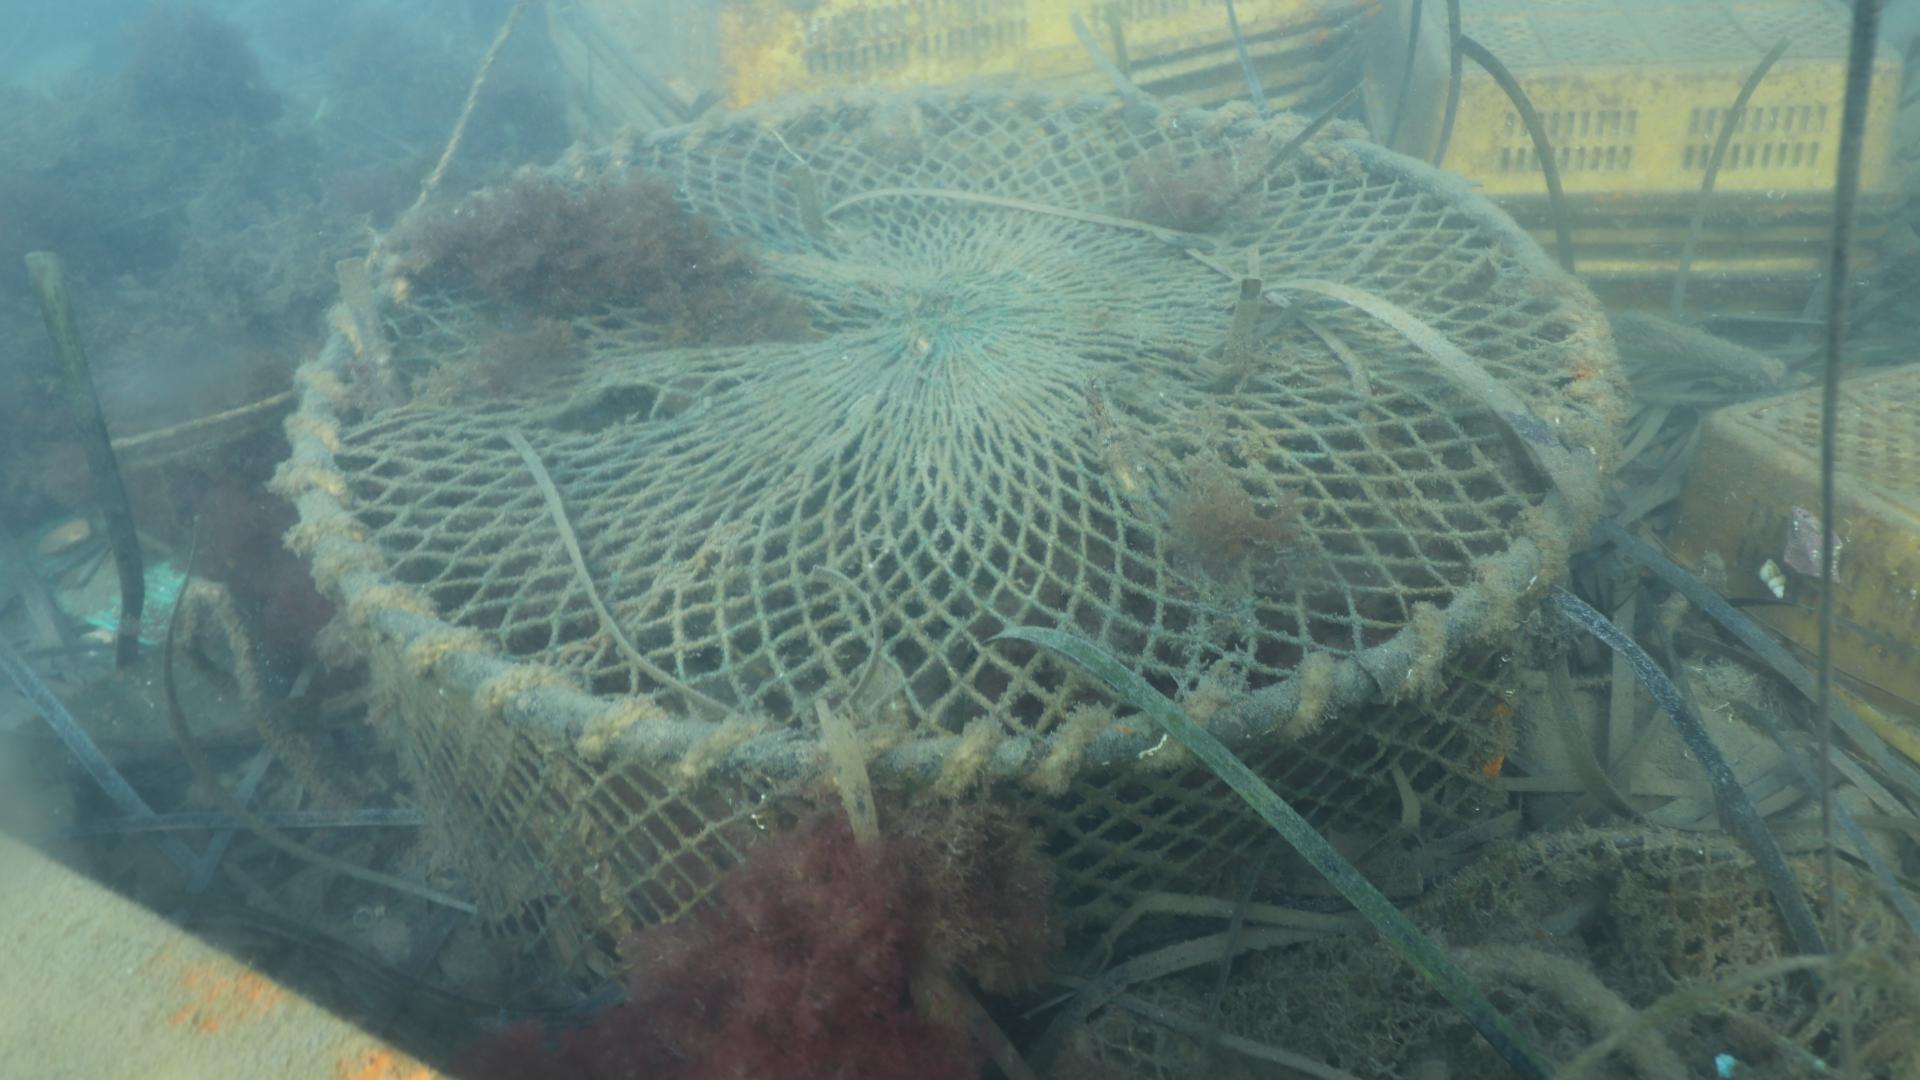circular fish trap: (262, 84, 1629, 998)
